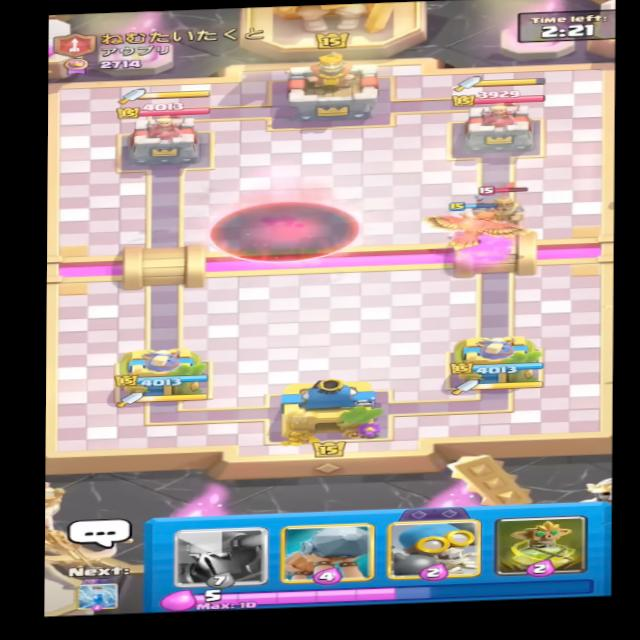prince: (473, 174, 533, 224)
